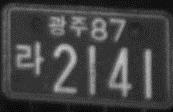1: (141, 47, 156, 99), (87, 43, 99, 98)
2: (52, 42, 78, 94)
4: (107, 45, 132, 99)
7: (108, 17, 127, 41)
8: (89, 17, 108, 41)
광주_O: (47, 13, 87, 38)
라: (14, 40, 44, 77)
